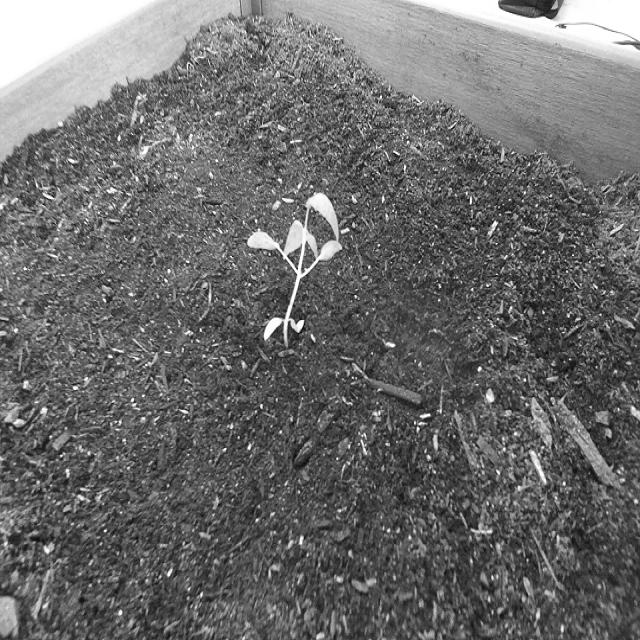Healthy: (243, 185, 344, 358)
